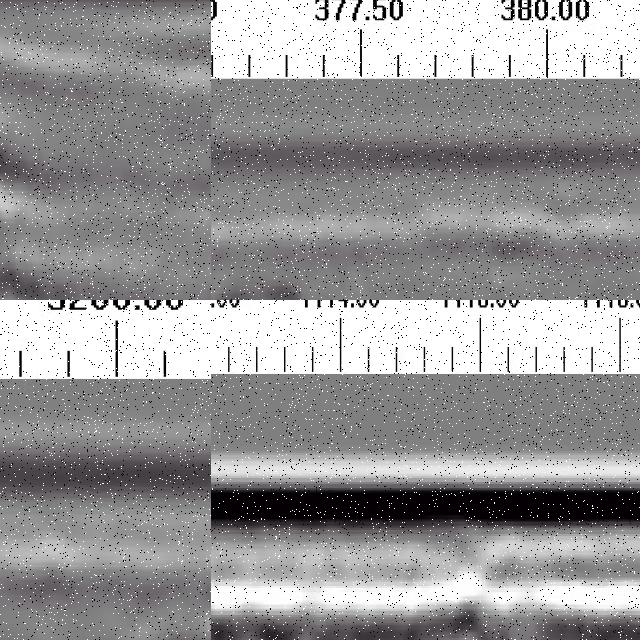loose: (212, 568, 552, 640), (1, 37, 87, 301)
